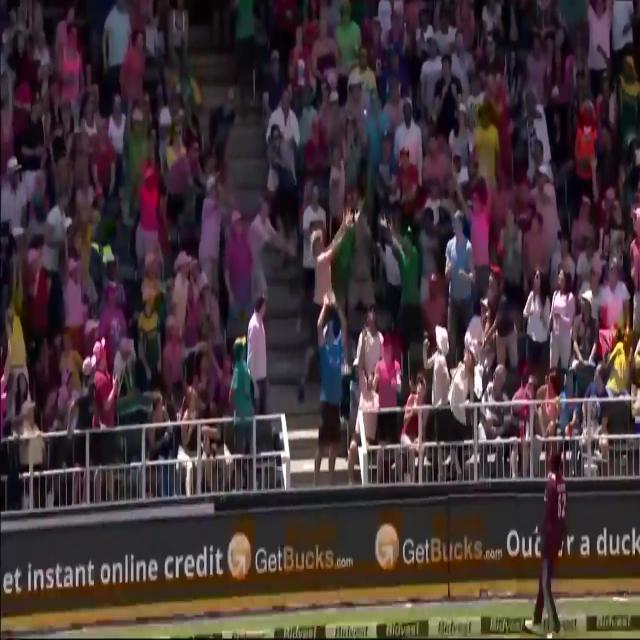Batsman: (374, 516, 404, 583)
